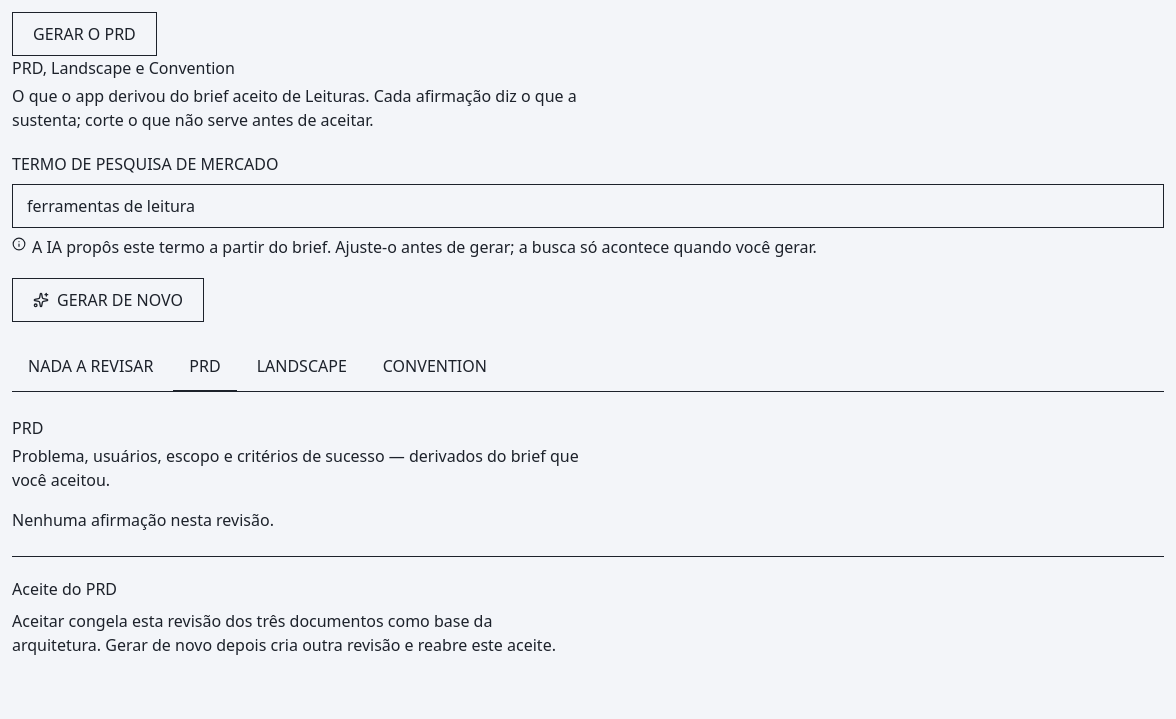
Scenario: documentos e origem › a afirmação de evidência mostra a URL que a sustenta
This screenshot has width=1176, height=719.
A afirmação vive no Landscape: a aba dele é onde ela se lê.
Click the tab "Landscape" at (302, 367), box x1=241 y1=342 x2=363 y2=392
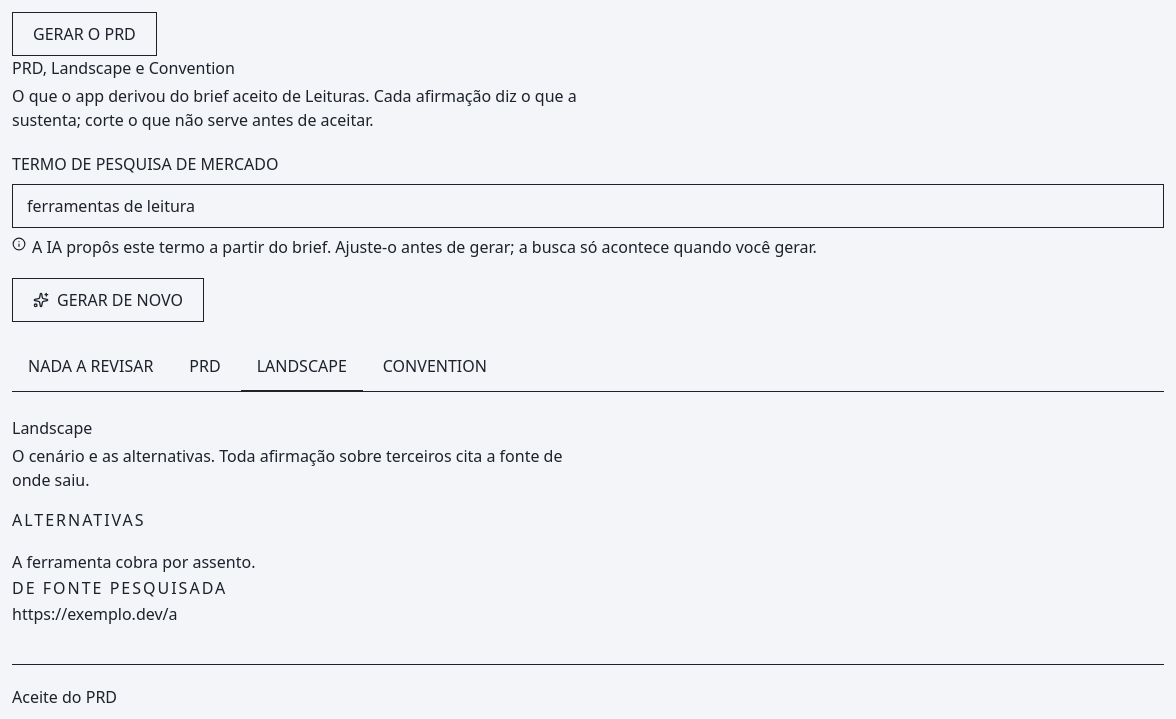
Result: the list item "https://exemplo.dev/a" is shown at x1=12 y1=603 x2=178 y2=625
